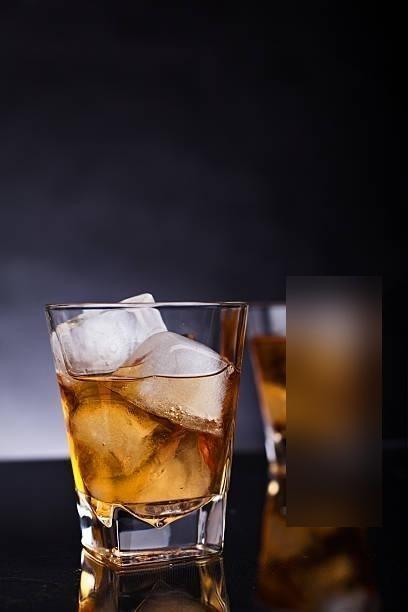glass-normal: (42, 296, 250, 572)
